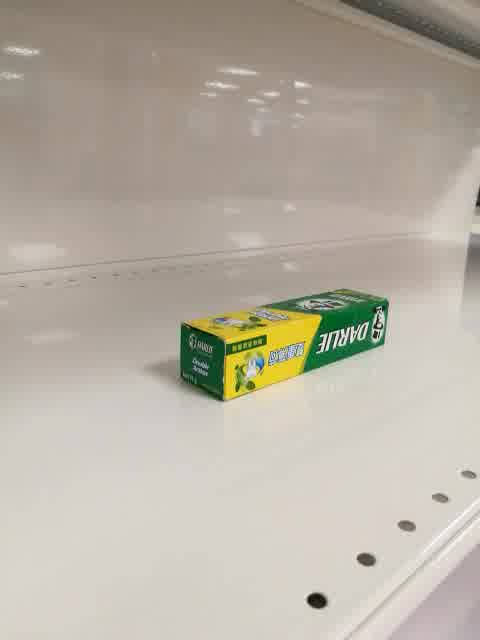toothpaste: (178, 288, 390, 402)
